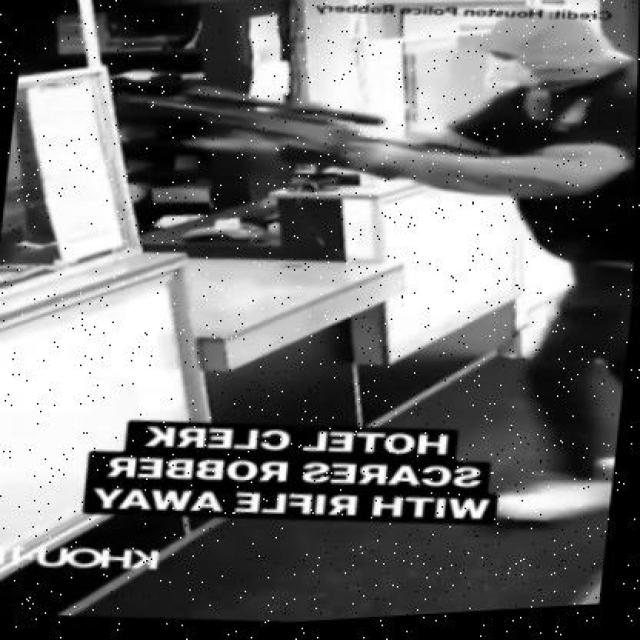weapon: (104, 77, 458, 199)
